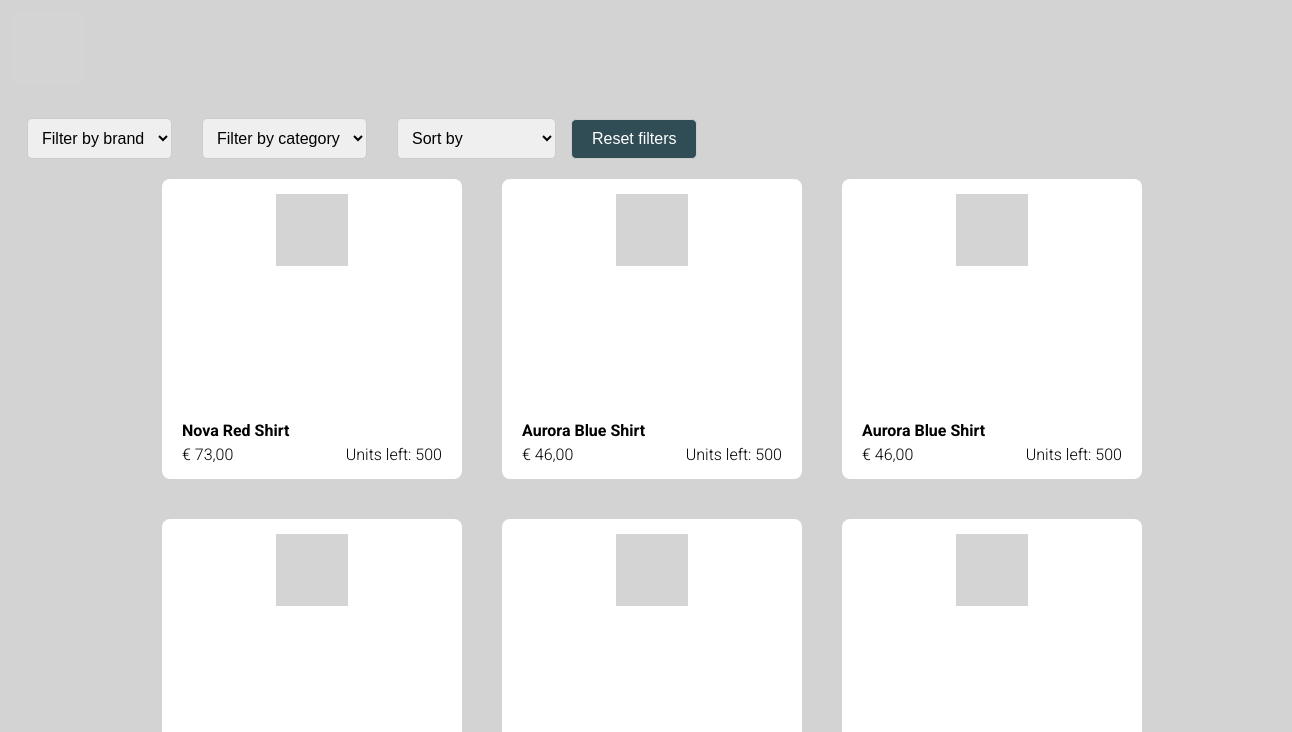
Test: My First Test › can filter by brand
The image size is (1292, 732).
Check: the element with class "filters-container" is shown, box [27,118,698,159]
Check: the 1st text "Aurora Blue Shirt" is shown, box [522,421,645,440]
Select "Nova" in the 1st dropdown at (100, 139), box [27,118,172,159]
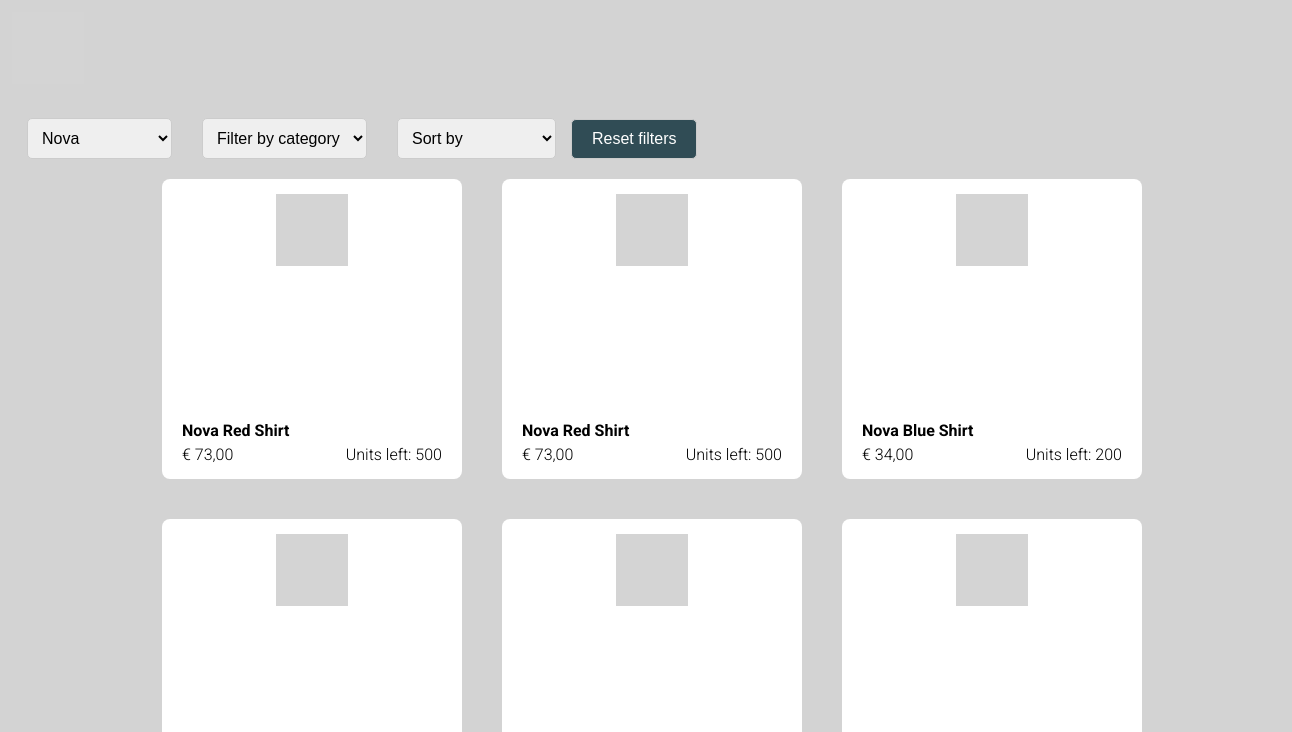
Check: the text "Aurora Blue Shirt" is gone
